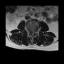CCS_normal: (32, 30, 33, 37)
LFS_severe_stenosis: (35, 30, 36, 33)
LLS_stenosis: (33, 30, 35, 34)
RFS_severe_stenosis: (29, 29, 31, 33)
RLS_severe_stenosis: (31, 30, 32, 35)
